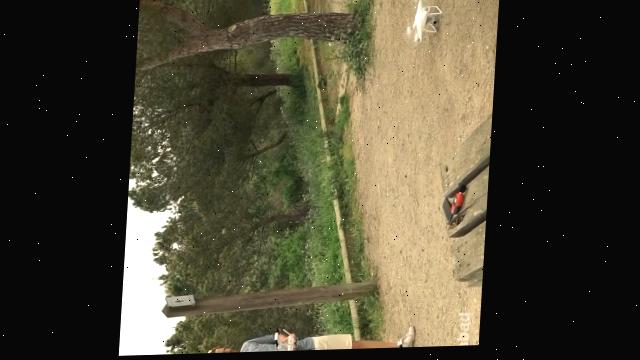drone: (402, 0, 445, 49)
